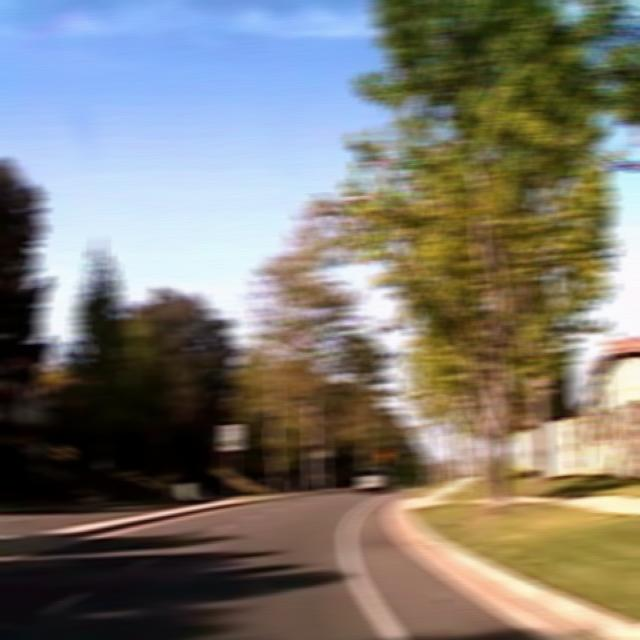speedLimit40: (220, 423, 242, 449)
